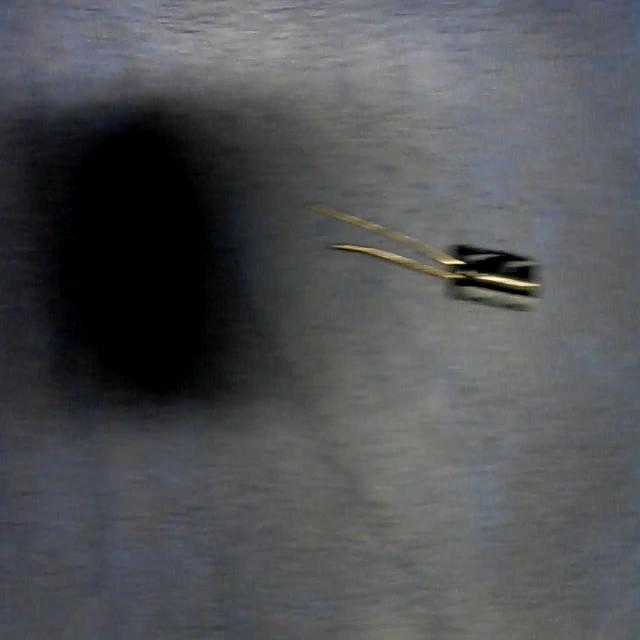capacitor: (309, 200, 543, 313)
